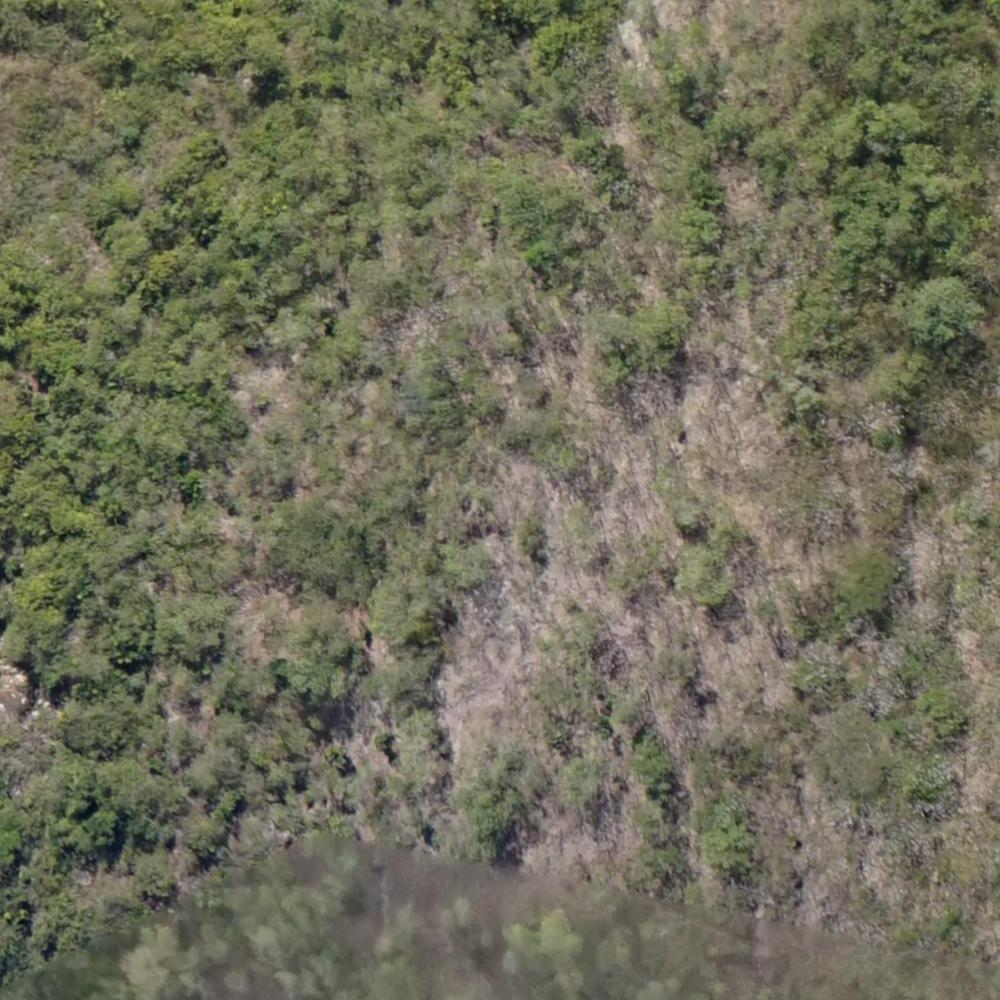tree: (369, 576, 451, 646), (910, 277, 979, 344), (680, 550, 733, 612), (706, 817, 759, 872), (847, 557, 898, 610), (298, 604, 344, 657), (99, 223, 154, 265), (174, 603, 220, 649), (269, 306, 313, 351), (639, 313, 675, 366), (540, 911, 581, 957), (133, 855, 176, 897), (676, 210, 716, 251), (67, 701, 105, 743), (111, 175, 147, 217), (831, 119, 866, 157), (187, 131, 226, 165), (561, 760, 593, 799), (260, 264, 298, 295), (527, 241, 561, 274), (175, 463, 205, 497)
